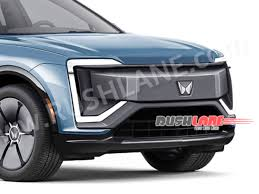XUV 400: (1, 1, 235, 181)
